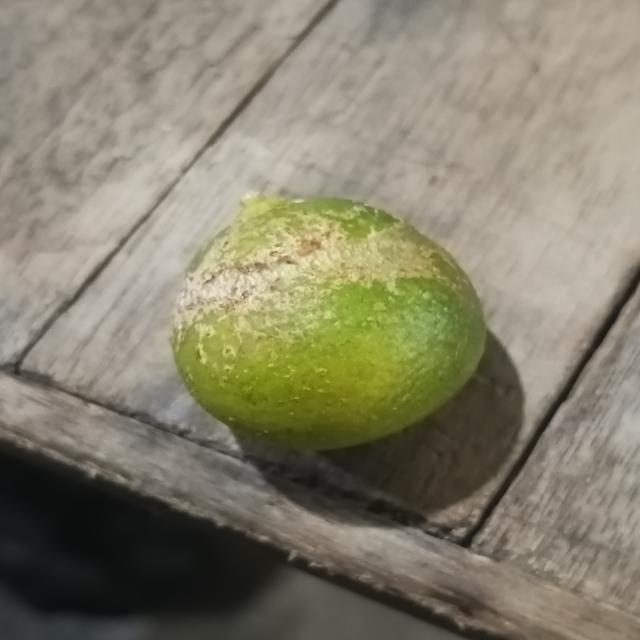thrips: (170, 198, 490, 445)
